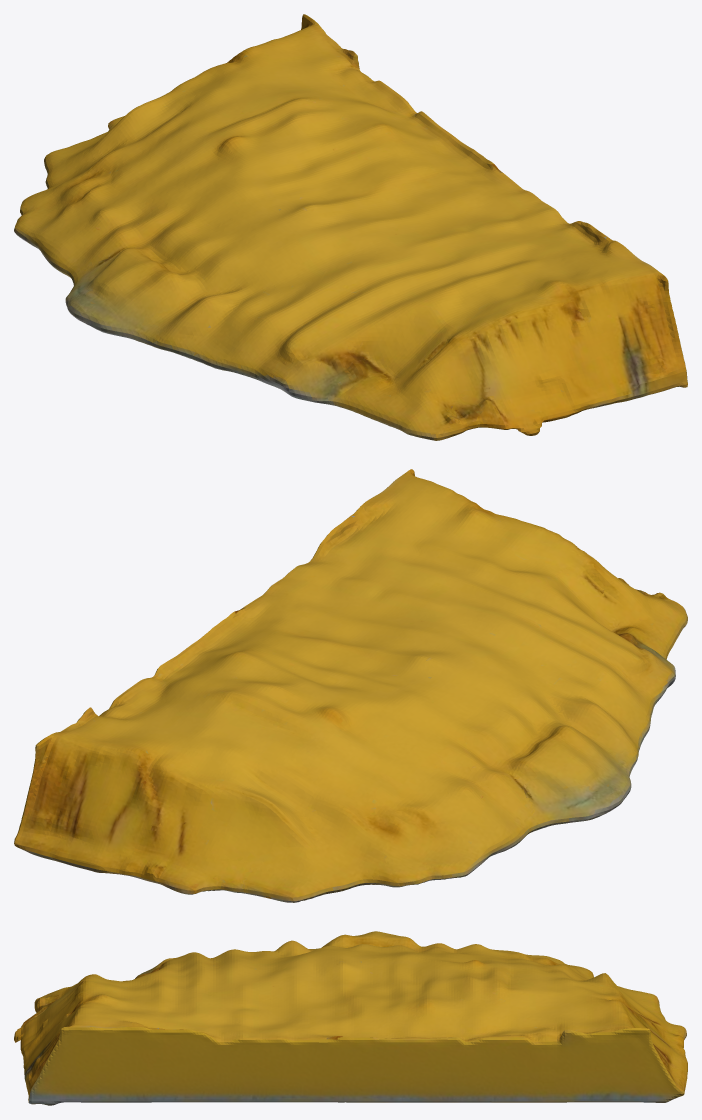
3 renders of one model, top to bottom at view 1: azimuth 30°, elevation 25°; view 2: azimuth 150°, elevation 25°; view 3: azimuth 270°, elevation 25°, orthographic. The views are drawn at different scales.
Visible parts, largest first — view 1: Hy21_Mesh.obj; view 2: Hy21_Mesh.obj; view 3: Hy21_Mesh.obj.
Boxes of the visible parts, <box> form: Hy21_Mesh.obj: <box>14,14,687,440</box>; Hy21_Mesh.obj: <box>14,469,687,902</box>; Hy21_Mesh.obj: <box>14,931,687,1105</box>.
Bounding box in the file's own units: 1.08 × 0.2615 × 1.96.
1 material, 1 textured.
